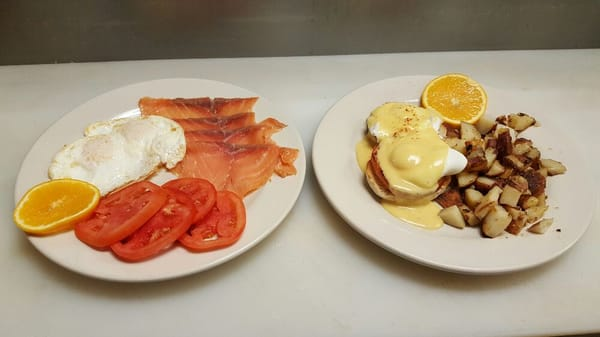taco: (13, 179, 101, 236), (420, 73, 488, 125)
